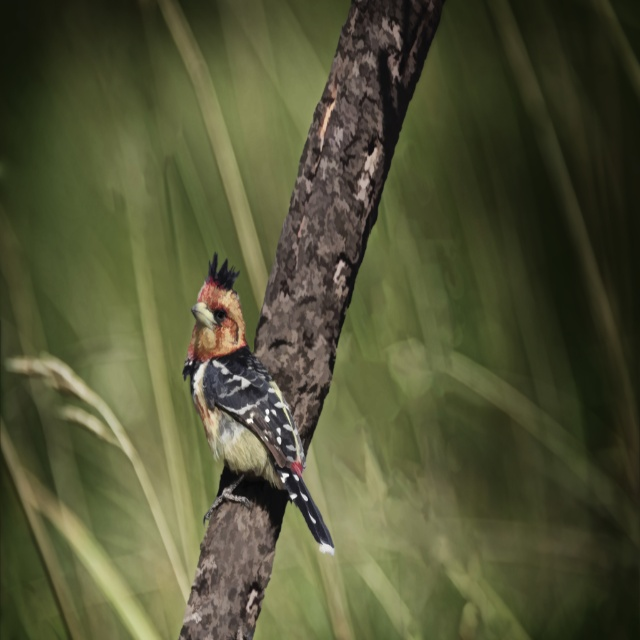Woodpecker: (182, 251, 335, 556)
